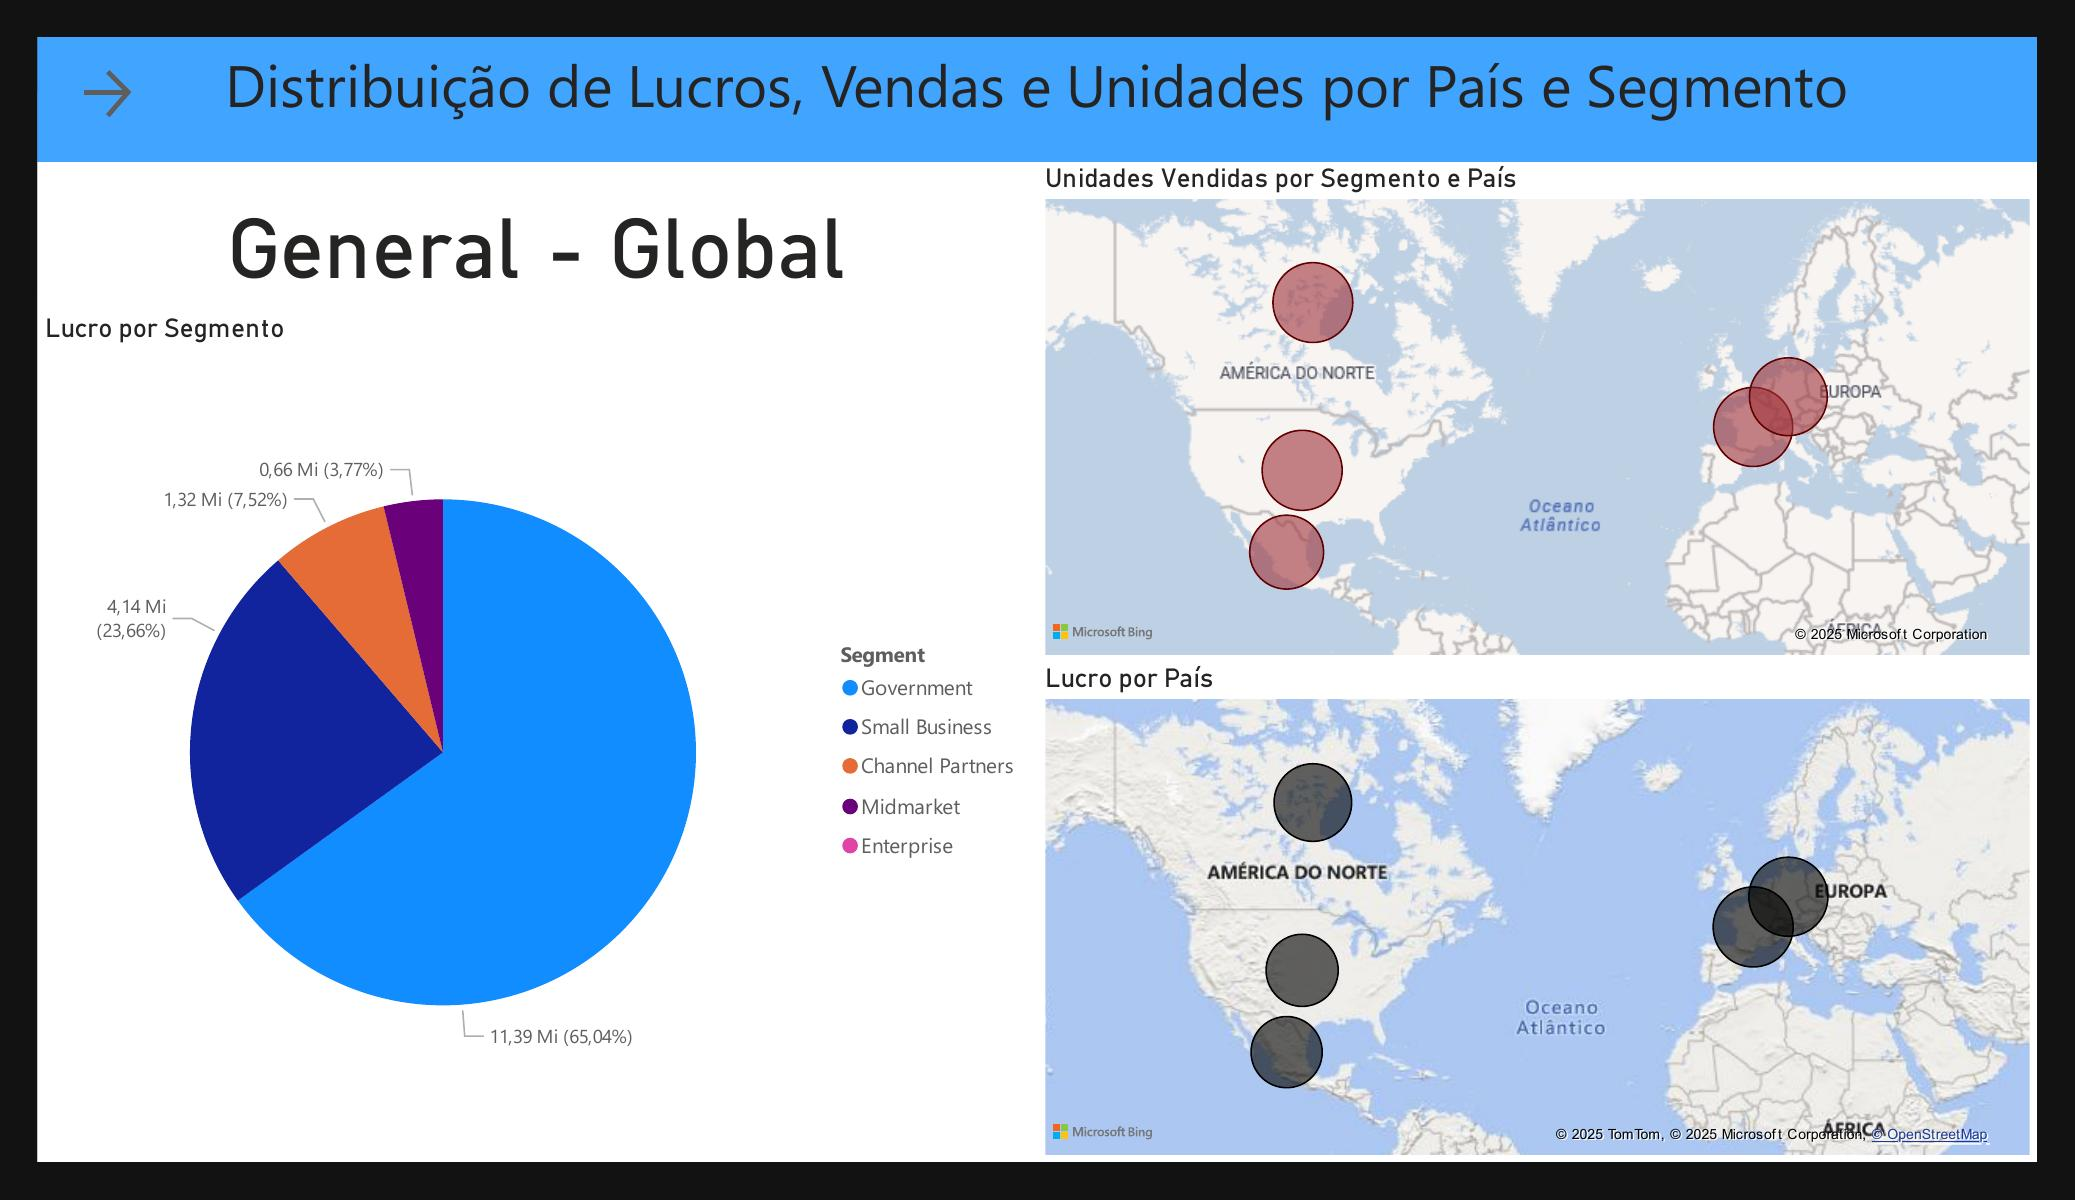

This screenshot's page, from the dashboard's own definition file:
{"tool":"powerbi","page":{"name":"Página 3","canvas":[1280,720],"ordinal":2},"visuals":[{"type":"map","title":"Unidades Vendidas por Segmento e País","fields":{"Category":["financials.Country"],"Size":["Sum(financials.Sales)"]},"box":[640,80,640,320],"z":1000},{"type":"map","title":"Lucro por País","fields":{"Category":["financials.Country"],"Size":["Sum(financials.Profit)"]},"box":[640,400,640,320],"z":2000},{"type":"textbox","box":[0,0,1280,80],"z":3000},{"type":"pieChart","title":"Lucro por Segmento","fields":{"Category":["financials.Segment"],"Y":["Sum(financials.Profit)"]},"box":[0,176,640,544],"z":4000},{"type":"card","fields":{"Values":["financials.Seletor"]},"box":[0,80,640,96],"z":5000},{"type":"actionButton","box":[24,16,96,40],"z":5001}]}

Visuals, with their boxes on the page's 1280x720 design canvas (x1, y1, x2, y2). These are canvas units, not pixel positions in the 2075x1200 screenshot, which may show the page scaled, cropped or inside an application window:
"Unidades Vendidas por Segmento e País" map: 640, 80, 1280, 400
"Lucro por País" map: 640, 400, 1280, 720
textbox: 0, 0, 1280, 80
"Lucro por Segmento" pieChart: 0, 176, 640, 720
card - financials.Seletor: 0, 80, 640, 176
actionButton: 24, 16, 120, 56
